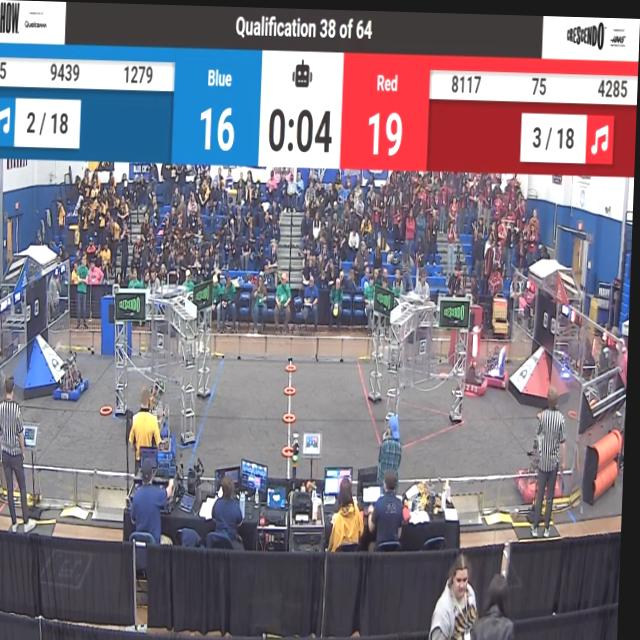Robot: (516, 396, 570, 501), (460, 329, 496, 398), (52, 348, 95, 403), (480, 316, 516, 381), (160, 414, 190, 465), (162, 384, 182, 446)
